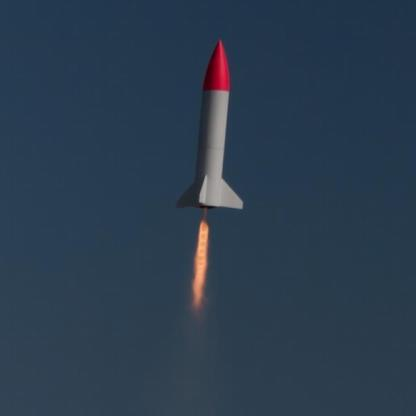MIL_TBM: (195, 40, 230, 168)
